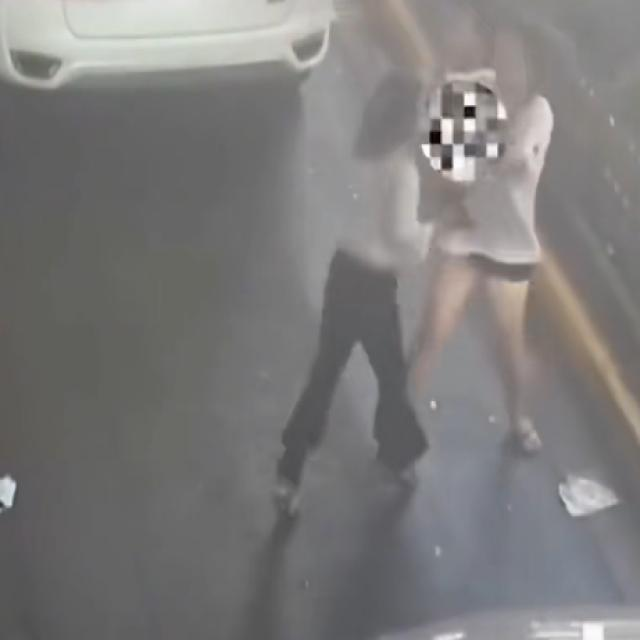nofight: (275, 64, 424, 526), (462, 29, 566, 484)
